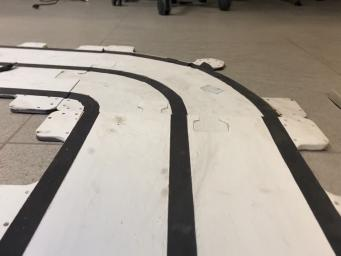street: (0, 43, 341, 256), (0, 43, 341, 256), (0, 43, 341, 256)
